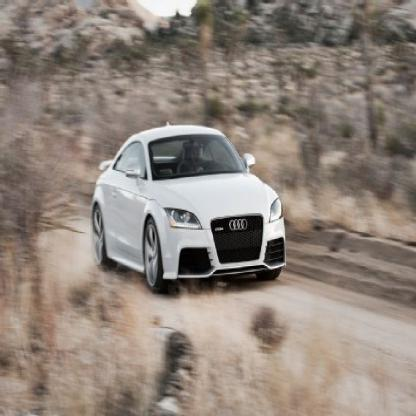Vehicle: (90, 121, 287, 294)
